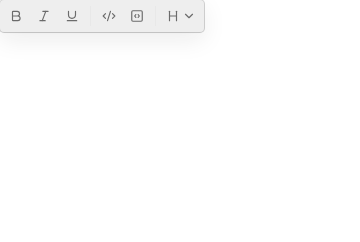
Test case: FloatingToolbar.svelte: dropdown заголовков (MDP-18) › клик по триггеру открывает меню с 7 пунктами (Параграф + H1..H6)
The width and height of the screenshot is (360, 242).
Click the button named "Уровень заголовка". click: (181, 16)
box: [162,4,200,28]
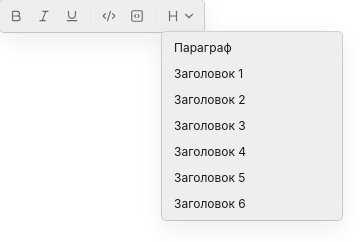
Expected: the number of menu items is 7
